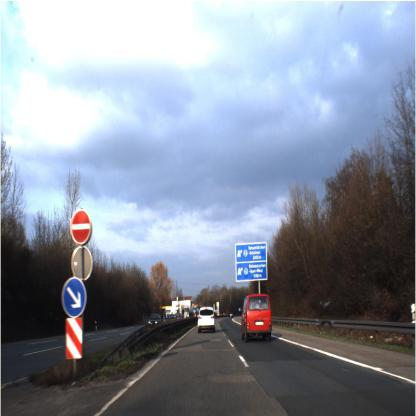mandatory: (61, 277, 88, 319)
other: (69, 210, 94, 244)
